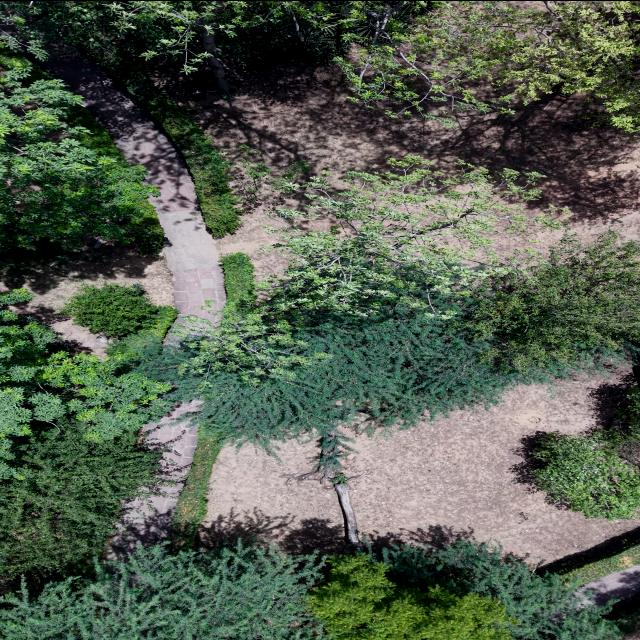DRY_AREA: (196, 58, 639, 238), (197, 59, 639, 239), (3, 47, 225, 353), (344, 376, 639, 564), (0, 241, 175, 357), (576, 564, 639, 605), (623, 631, 639, 639)
PATHWAYS: (37, 47, 225, 319), (38, 46, 225, 319)
VEGETATION_TREE: (0, 156, 639, 639), (138, 156, 638, 457), (13, 1, 639, 200), (7, 1, 388, 235), (6, 1, 639, 130), (0, 541, 621, 639), (12, 3, 239, 236), (146, 309, 511, 446), (0, 309, 171, 574), (0, 309, 170, 575), (337, 1, 639, 130), (0, 35, 162, 248), (0, 544, 324, 639), (7, 1, 421, 70), (0, 309, 170, 477), (0, 421, 170, 575), (470, 233, 639, 376), (382, 540, 621, 639), (112, 57, 241, 236), (108, 1, 426, 69), (308, 553, 516, 639), (511, 386, 639, 519), (142, 88, 241, 236), (66, 105, 164, 252), (532, 431, 639, 519), (59, 283, 177, 362), (61, 283, 176, 338), (538, 528, 639, 584), (172, 434, 221, 547), (172, 436, 221, 547), (107, 306, 177, 362), (66, 105, 128, 164), (238, 144, 311, 193), (562, 541, 639, 584), (221, 252, 256, 306), (605, 597, 639, 635), (152, 306, 177, 336)
